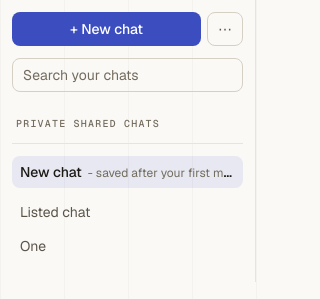
Test: chat search in the sidebar › offers no New folder while results hide the folder list
Expected: the button "Listed chat" is shown, [12, 196, 243, 228]
Type "rotat" into the search field labelled "Search your chats" at (128, 75), box [12, 58, 243, 92]
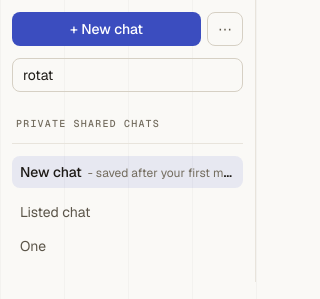
Submit the form named "Search your chats", box [12, 58, 243, 92]
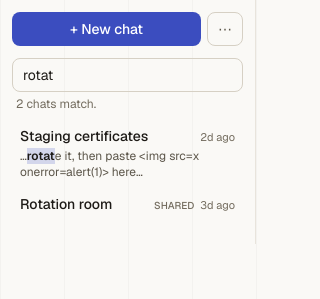
Now the text "2 chats match." is shown, box [16, 96, 96, 112]
Click the button named "Chat list options" at (225, 29), box [207, 12, 243, 46]
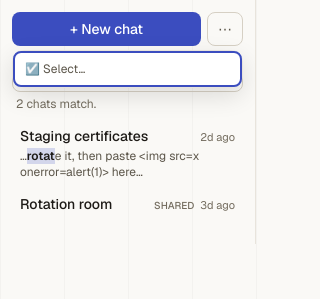
Now the button "☑️ Select…" is shown, box [17, 55, 238, 83]
